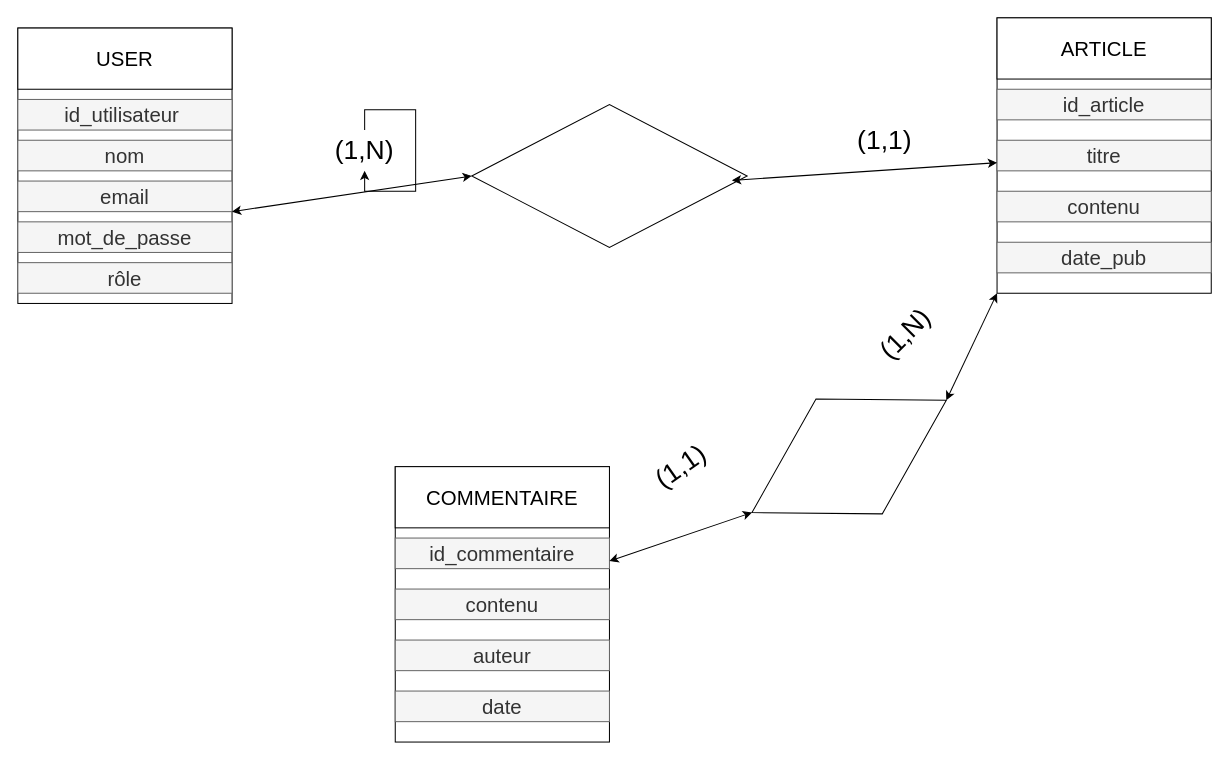
The diagram is 1229 pixels wide and 760 high, and some of its shapes have lost their labels. The shapes that lost their labels are listed below. From the top down, each one's centre as x and y in pixels, then its label:
point 609,175: rédiger
point 849,456: recevoir
